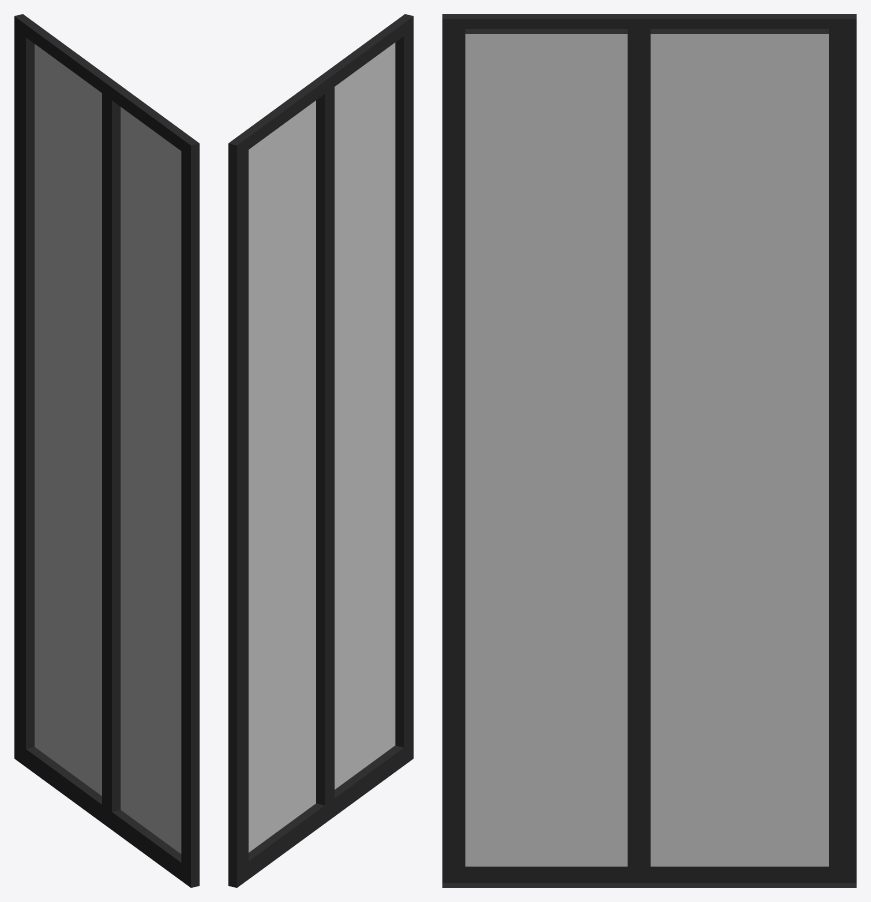
File: Janela.fbx
3 renders of one model, left to right at view 1: azimuth 30°, elevation 25°; view 2: azimuth 150°, elevation 25°; view 3: azimuth 270°, elevation 25°, orthographic. The views are drawn at different scales.
Visible parts, largest first — view 1: Vidro, Janela; view 2: Vidro, Janela; view 3: Vidro, Janela.
Boxes of the visible parts, x1=… form: Vidro: x1=34, y1=44, x2=181, y2=853; Janela: x1=14, y1=14, x2=199, y2=887; Vidro: x1=248, y1=42, x2=395, y2=852; Janela: x1=228, y1=14, x2=413, y2=887; Vidro: x1=465, y1=34, x2=828, y2=866; Janela: x1=442, y1=14, x2=856, y2=887.
Size of the model in its own units: 5.71 by 463 by 200.
1 material, 1 textured.
